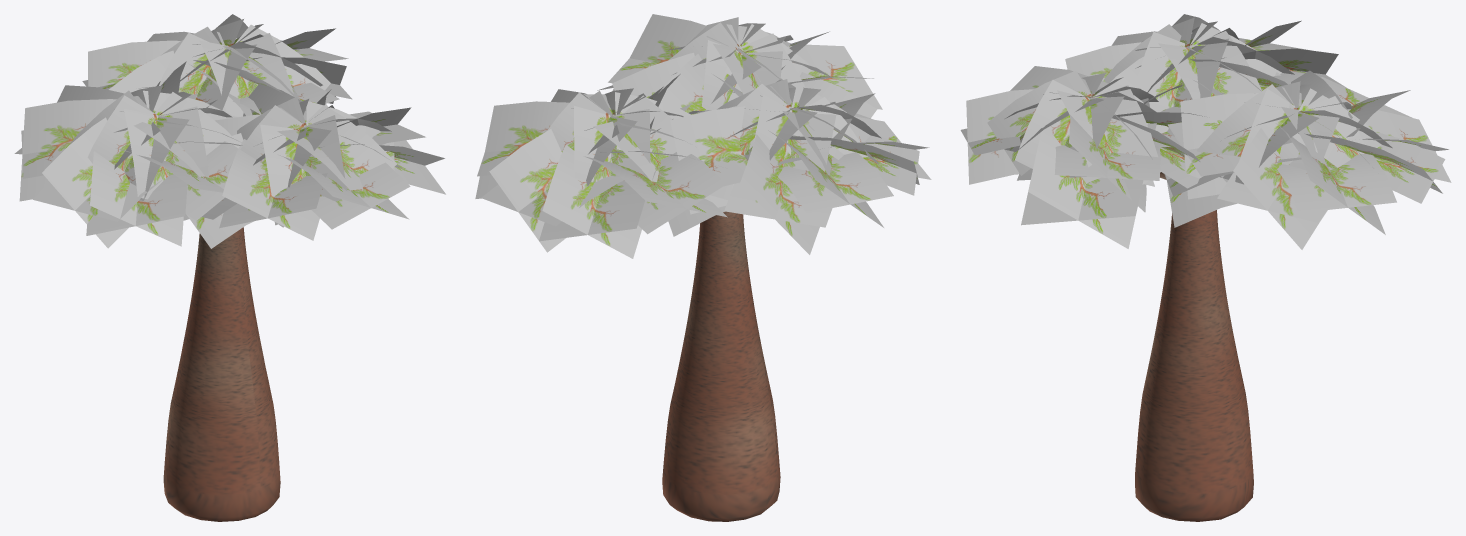
File: BaobabWood_01.fbx
The picture shows the model from 3 angles, left to right: view 1: azimuth 30°, elevation 25°; view 2: azimuth 150°, elevation 25°; view 3: azimuth 270°, elevation 25°; orthographic projection. The views are drawn at different scales.
Parts seen in each view (by area): view 1: BaobabWood_01; view 2: BaobabWood_01; view 3: BaobabWood_01.
Part boxes in pixels (left/top/right/bottom): BaobabWood_01: left=14, top=14, right=445, bottom=521; BaobabWood_01: left=475, top=14, right=931, bottom=521; BaobabWood_01: left=960, top=14, right=1451, bottom=521.
Bounding box in the file's own units: 797 × 875 × 889.
